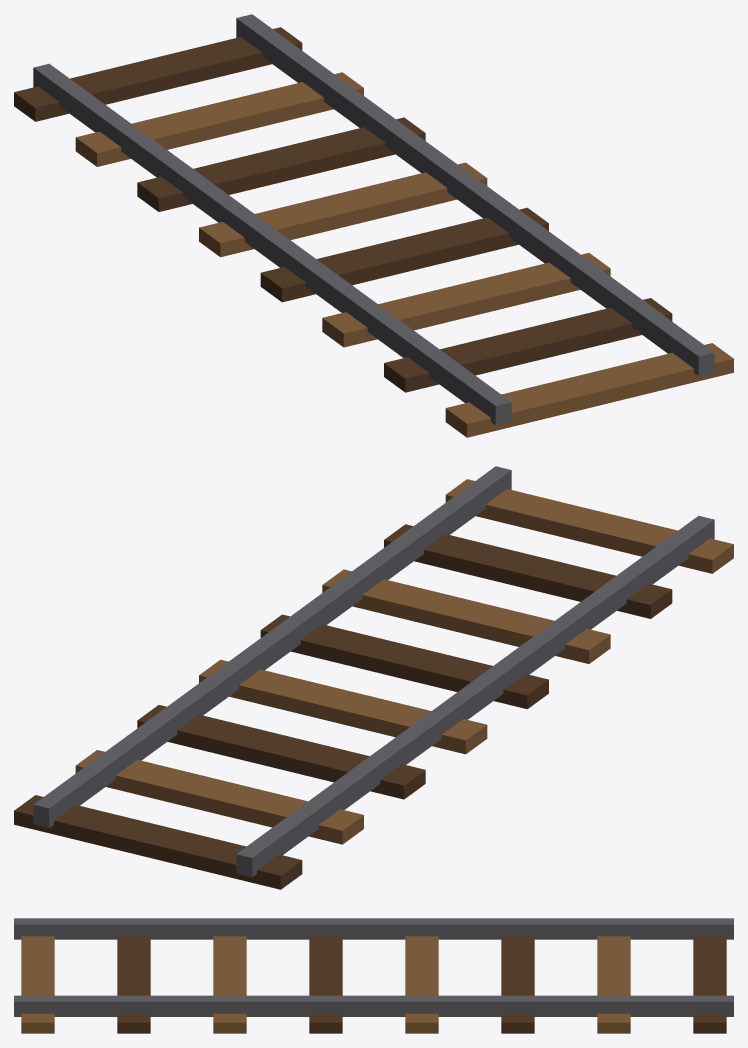
Rendered from schienen.glb.
3 renders of one model, top to bottom at view 1: azimuth 30°, elevation 25°; view 2: azimuth 150°, elevation 25°; view 3: azimuth 270°, elevation 25°, orthographic. The views are drawn at different scales.
Parts seen in each view (by area): view 1: Cube; view 2: Cube; view 3: Cube.
Boxes of the visible parts, x1,y1,x2,y2 form: Cube: (14,14,733,437); Cube: (14,466,733,889); Cube: (14,918,733,1033).
Bounding box in the file's own units: 1 × 0.105 × 3.
